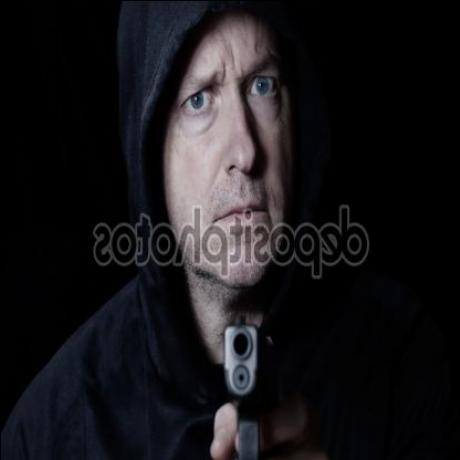1: (0, 0, 357, 460)
weapon: (212, 308, 276, 460)
